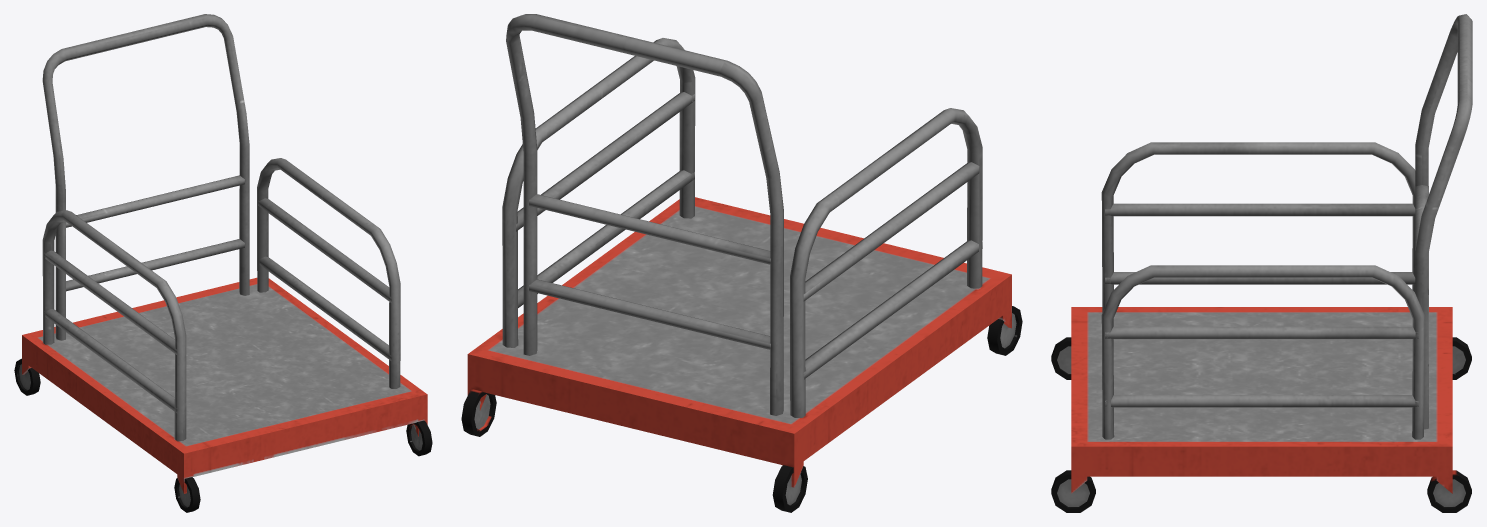
File: cart.fbx
3 views of the same model, side by side, from view 1: azimuth 30°, elevation 25°; view 2: azimuth 150°, elevation 25°; view 3: azimuth 270°, elevation 25° (orthographic). The views are drawn at different scales.
Parts seen in each view (by area): view 1: Cube, BézierCurve.001, BézierCurve.008, BézierCurve.009, Circle.006, Circle.005, Circle.003; view 2: Cube, BézierCurve.001, BézierCurve.008, BézierCurve.009, Circle.004, Circle.003, Circle.005; view 3: Cube, BézierCurve.009, BézierCurve.008, BézierCurve.001, Circle.006, Circle.004, Circle.005, Circle.003.
Part boxes in pixels (x1,y1,x2,y2): Cube: (22,277,427,493); BézierCurve.001: (42,14,249,340); BézierCurve.008: (42,210,186,441); BézierCurve.009: (257,158,400,388); Circle.006: (406,420,432,456); Circle.005: (174,477,200,512); Circle.003: (14,358,40,395); Cube: (467,197,1011,487); BézierCurve.001: (506,14,783,415); BézierCurve.008: (790,108,982,417); BézierCurve.009: (502,38,695,347); Circle.004: (461,389,496,436); Circle.003: (772,465,807,512); Circle.005: (987,306,1022,355); Cube: (1071,307,1452,493); BézierCurve.009: (1101,265,1424,439); BézierCurve.008: (1101,142,1415,312); BézierCurve.001: (1415,14,1472,429); Circle.006: (1051,470,1095,512); Circle.004: (1427,470,1471,512); Circle.005: (1051,337,1071,379); Circle.003: (1452,337,1471,379).
Size of the model in its own units: 1994 by 2568 by 2543.
Materials: 1 (1 with a texture image).
